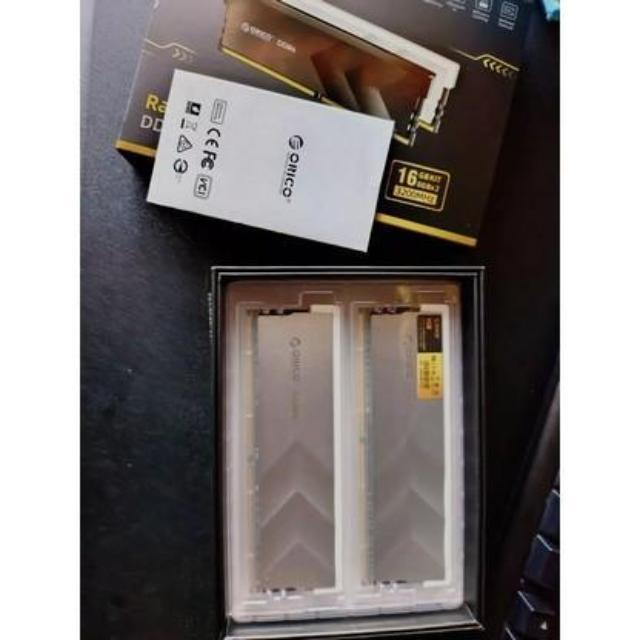RAM: (351, 300, 463, 602), (234, 302, 342, 606)
